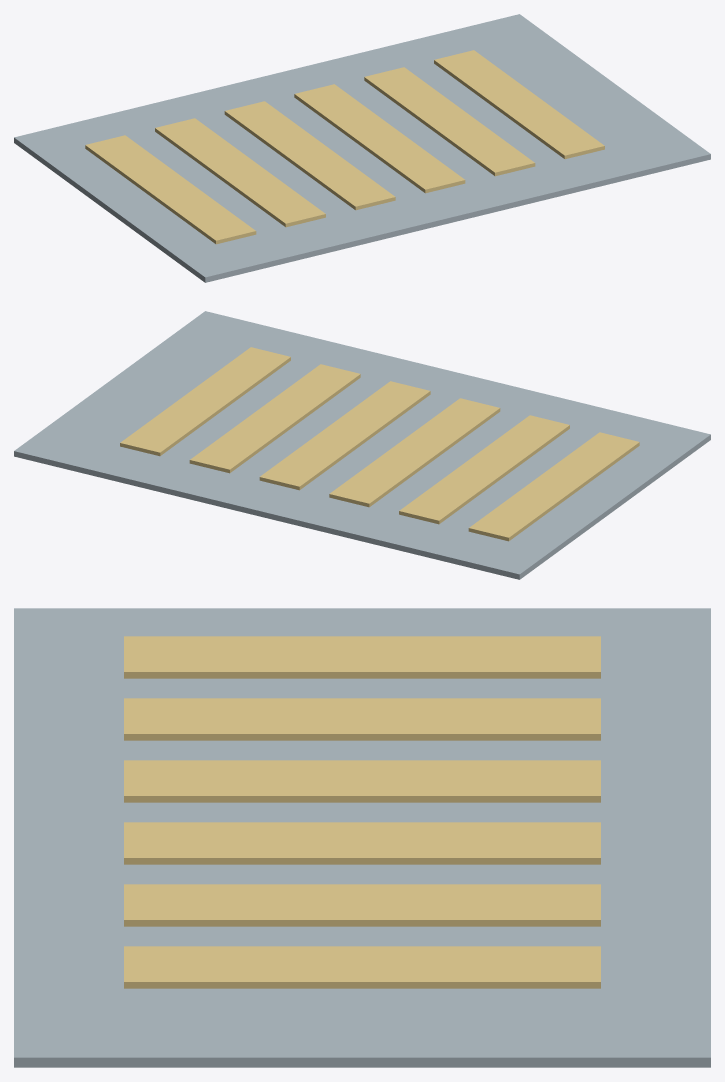
The model's file is 342_L122_RF5_AntennaZone.glb.
3 views of the same model, one above another, from view 1: azimuth 30°, elevation 25°; view 2: azimuth 150°, elevation 25°; view 3: azimuth 270°, elevation 25° (orthographic). The views are drawn at different scales.
Visible parts, largest first — view 1: L122_dielectric__PSMAT__dielectric, L122_antenna__PSMAT__antenna; view 2: L122_dielectric__PSMAT__dielectric, L122_antenna__PSMAT__antenna; view 3: L122_dielectric__PSMAT__dielectric, L122_antenna__PSMAT__antenna.
Part boxes in pixels (x1,y1,x2,y2): L122_dielectric__PSMAT__dielectric: (14,14,710,282); L122_antenna__PSMAT__antenna: (85,50,604,244); L122_dielectric__PSMAT__dielectric: (14,311,710,579); L122_antenna__PSMAT__antenna: (120,347,639,541); L122_dielectric__PSMAT__dielectric: (14,608,710,1067); L122_antenna__PSMAT__antenna: (124,636,600,988).
Bounding box in the file's own units: 0.029 × 0.00055 × 0.019.
